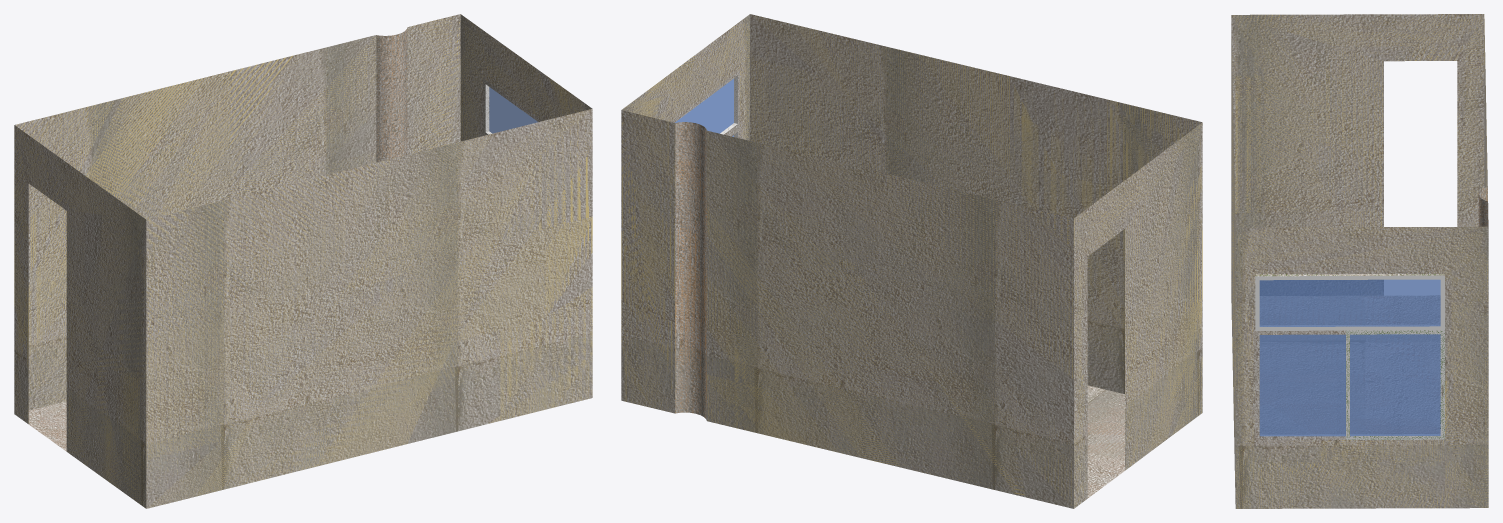
File: DES009.obj
The picture shows the model from 3 angles, left to right: view 1: azimuth 30°, elevation 25°; view 2: azimuth 150°, elevation 25°; view 3: azimuth 270°, elevation 25°; orthographic projection. The views are drawn at different scales.
Visible parts, largest first — view 1: Mesh7 DES009 Model, Mesh1 ventana1_2_1 DES009 Model; view 2: Mesh7 DES009 Model, Mesh1 ventana1_2_1 DES009 Model; view 3: Mesh7 DES009 Model, Mesh1 ventana1_2_1 DES009 Model.
Part boxes in pixels (x1=…): Mesh7 DES009 Model: x1=14, y1=14, x2=592, y2=508; Mesh1 ventana1_2_1 DES009 Model: x1=483, y1=79, x2=542, y2=135; Mesh7 DES009 Model: x1=621, y1=14, x2=1202, y2=508; Mesh1 ventana1_2_1 DES009 Model: x1=671, y1=70, x2=739, y2=138; Mesh7 DES009 Model: x1=1231, y1=14, x2=1488, y2=508; Mesh1 ventana1_2_1 DES009 Model: x1=1255, y1=273, x2=1444, y2=440.
Bounding box in the file's own units: 5.91 × 3.6 × 2.98.
8 materials, 2 textured.
